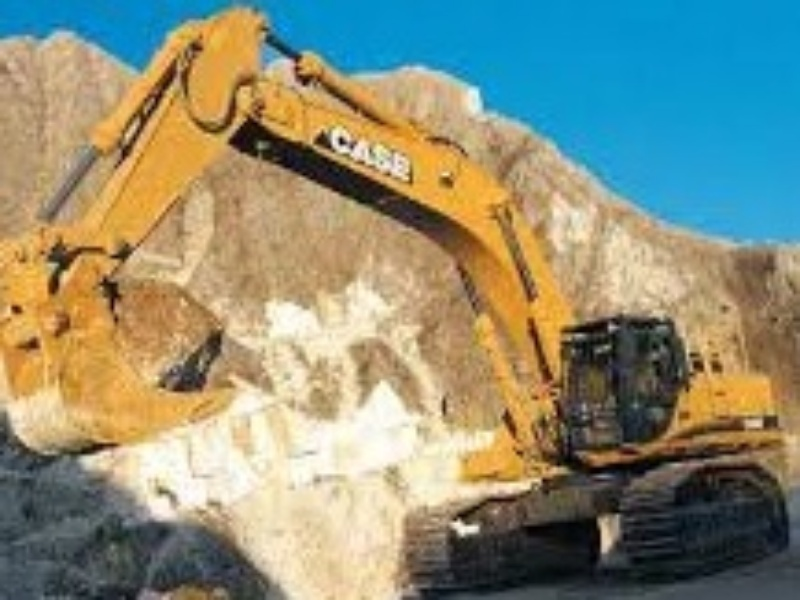wajueji: (398, 257, 796, 600)
